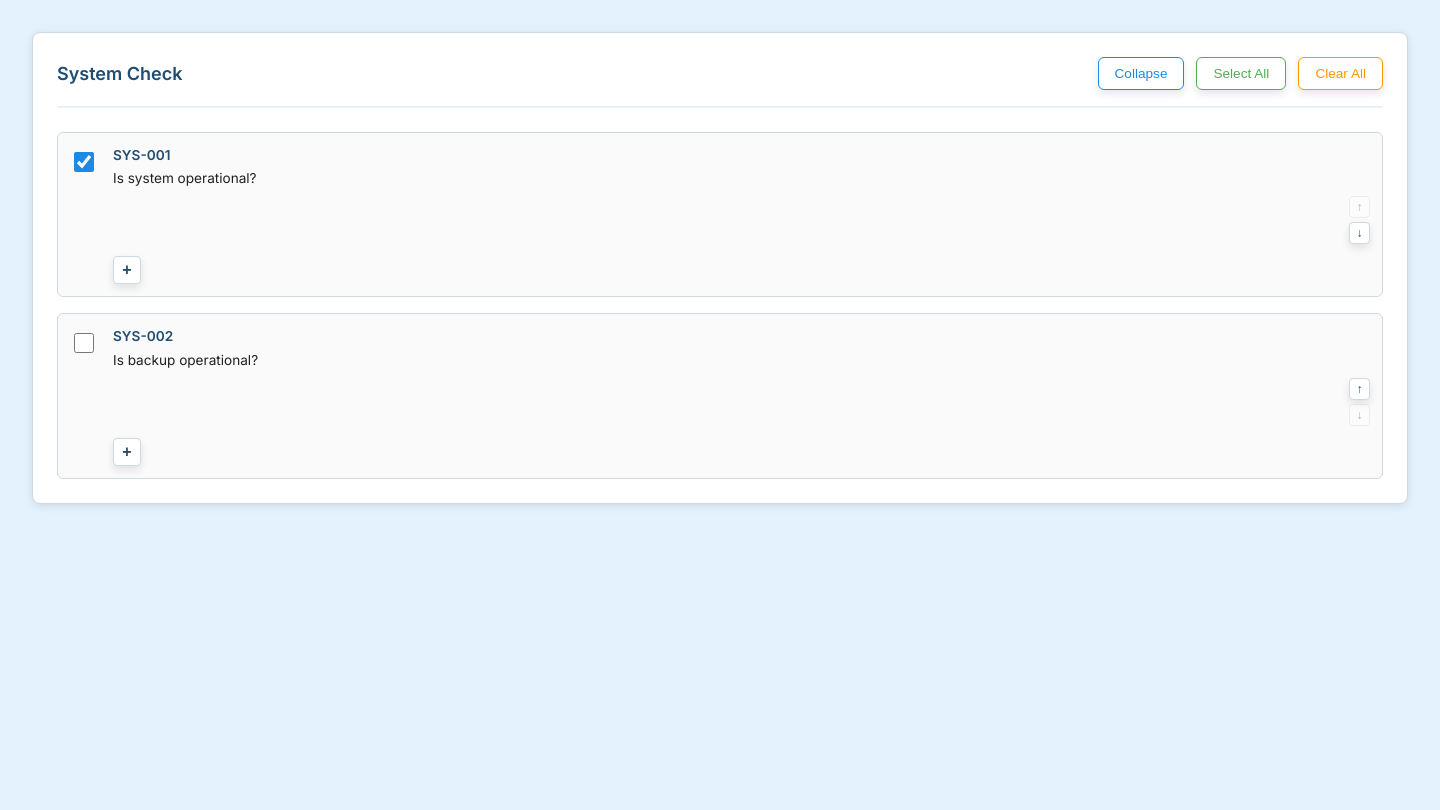
Scenario: TopicChecklistGroup Component › Question Details › should show details when expand button is clicked
The width and height of the screenshot is (1440, 810).
Click the button with class "expand-btn" below "Is system operational?" at (127, 270), box [113,256,141,284]
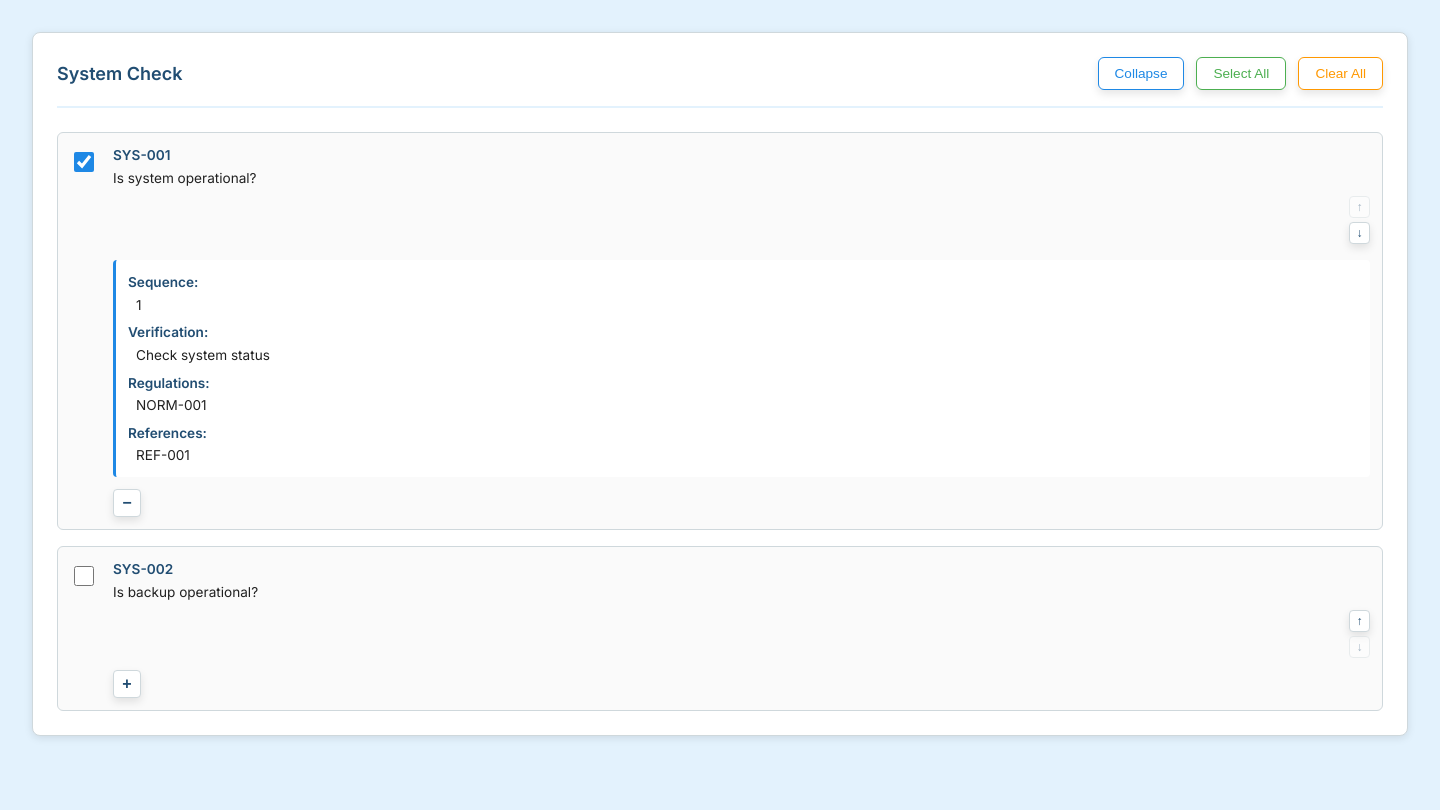
Now the element that starts with "Sequence:" is shown, box [113,260,1370,477]
